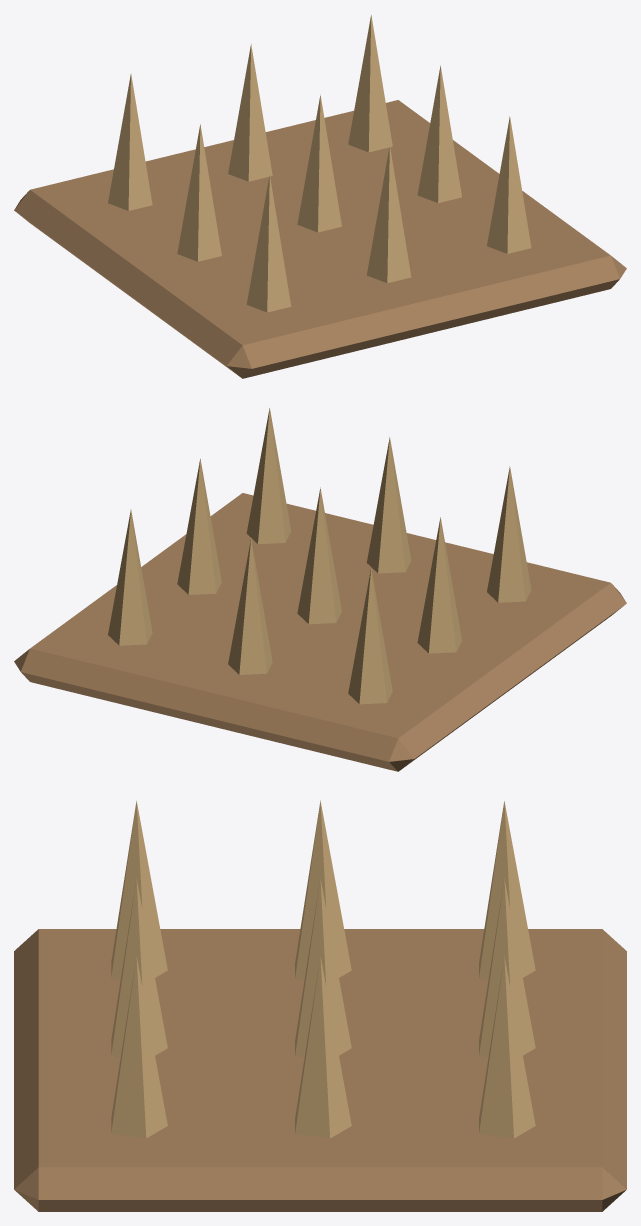
Rendered from CC_SpikeTrap.fbx.
3 views of the same model, one above another, from view 1: azimuth 30°, elevation 25°; view 2: azimuth 150°, elevation 25°; view 3: azimuth 270°, elevation 25° (orthographic). The views are drawn at different scales.
Visible parts, largest first — view 1: Plate, Spike.005, Spike.007, Spike.002, Spike.001, Spike.003, Spike.004, Spike.006, Spike.008, Spike; view 2: Plate, Spike, Spike.003, Spike.008, Spike.002, Spike.001, Spike.007, Spike.006, Spike.004, Spike.005; view 3: Plate, Spike.006, Spike.007, Spike.008, Spike, Spike.004, Spike.001, Spike.003, Spike.005, Spike.002.
Part boxes in pixels (<box>): Plate: <box>14,100,626,378</box>; Spike.005: <box>228,43,272,181</box>; Spike.007: <box>417,65,461,203</box>; Spike.002: <box>108,73,152,210</box>; Spike.001: <box>177,124,221,261</box>; Spike.003: <box>366,145,411,283</box>; Spike.004: <box>297,94,341,232</box>; Spike.006: <box>487,116,531,253</box>; Spike.008: <box>348,15,392,152</box>; Spike: <box>246,175,291,312</box>; Plate: <box>14,493,626,771</box>; Spike: <box>487,466,531,602</box>; Spike.003: <box>366,436,411,573</box>; Spike.008: <box>108,509,152,645</box>; Spike.002: <box>348,568,392,704</box>; Spike.001: <box>417,517,461,653</box>; Spike.007: <box>177,458,221,594</box>; Spike.006: <box>246,408,291,544</box>; Spike.004: <box>297,487,341,624</box>; Spike.005: <box>228,538,272,674</box>; Plate: <box>14,929,626,1211</box>; Spike.006: <box>111,956,167,1138</box>; Spike.007: <box>295,956,351,1138</box>; Spike.008: <box>479,956,535,1138</box>; Spike: <box>111,801,167,979</box>; Spike.004: <box>295,878,351,1057</box>; Spike.001: <box>295,800,351,979</box>; Spike.003: <box>111,879,167,1057</box>; Spike.005: <box>479,878,535,1057</box>; Spike.002: <box>479,801,535,979</box>.
Size of the model in its own units: 1.5 by 0.58 by 1.5.
